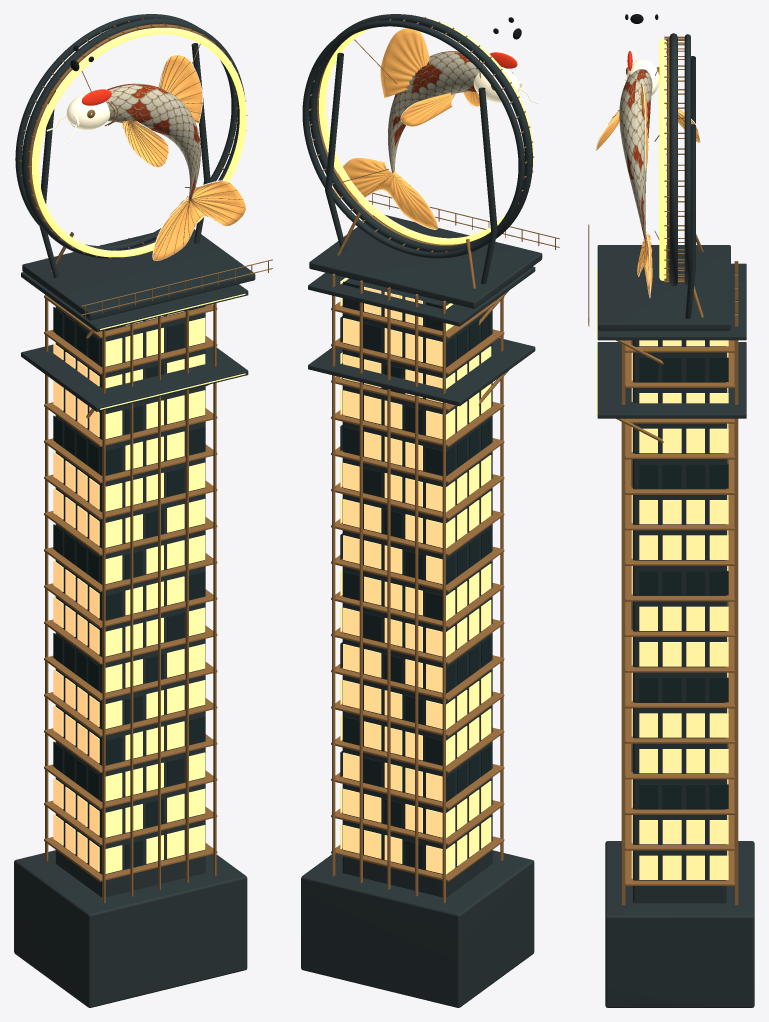
The model's file is KoiLanternTower.fbx.
3 renders of one model, left to right at view 1: azimuth 30°, elevation 25°; view 2: azimuth 150°, elevation 25°; view 3: azimuth 270°, elevation 25°, orthographic.
Parts seen in each view (by area): view 1: Structure_graphite, Structure_window, Structure_bronze, Structure_glass, Structure_amber, Structure_enamel, Fin_tail, Fin_dorsal, Fin_near, Structure_ivory; view 2: Structure_graphite, Structure_window, Structure_bronze, Structure_glass, Structure_enamel, Fin_tail, Structure_amber, Fin_dorsal, Fin_far, Structure_ivory; view 3: Structure_graphite, Structure_bronze, Structure_window, Structure_glass, Structure_enamel, Structure_amber, Fin_tail, Structure_ivory.
Part boxes in pixels (box(x1,y1,x2,y2)): Structure_graphite: box(14, 14, 255, 1007); Structure_window: box(53, 311, 205, 873); Structure_bronze: box(19, 17, 272, 903); Structure_glass: box(53, 306, 205, 868); Structure_amber: box(32, 27, 246, 409); Structure_enamel: box(106, 83, 200, 199); Fin_tail: box(152, 180, 245, 260); Fin_dorsal: box(158, 54, 202, 123); Fin_near: box(122, 119, 168, 167); Structure_ivory: box(46, 93, 109, 144); Structure_graphite: box(301, 14, 542, 1007); Structure_window: box(340, 277, 491, 874); Structure_bronze: box(309, 14, 559, 903); Structure_glass: box(340, 281, 491, 868); Structure_enamel: box(388, 51, 486, 172); Fin_tail: box(333, 157, 438, 229); Structure_amber: box(319, 16, 533, 244); Fin_dorsal: box(380, 28, 429, 98); Fin_far: box(400, 92, 455, 126); Structure_ivory: box(473, 66, 539, 103); Structure_graphite: box(597, 33, 754, 1007); Structure_bronze: box(588, 36, 738, 905); Structure_window: box(631, 340, 728, 879); Structure_glass: box(631, 340, 728, 808); Structure_enamel: box(619, 69, 652, 239); Structure_amber: box(596, 38, 666, 415); Fin_tail: box(637, 233, 652, 297); Structure_ivory: box(624, 59, 659, 95).
Bounding box in the file's own units: 32.28 × 130 × 21.17.
10 materials, 1 textured.
